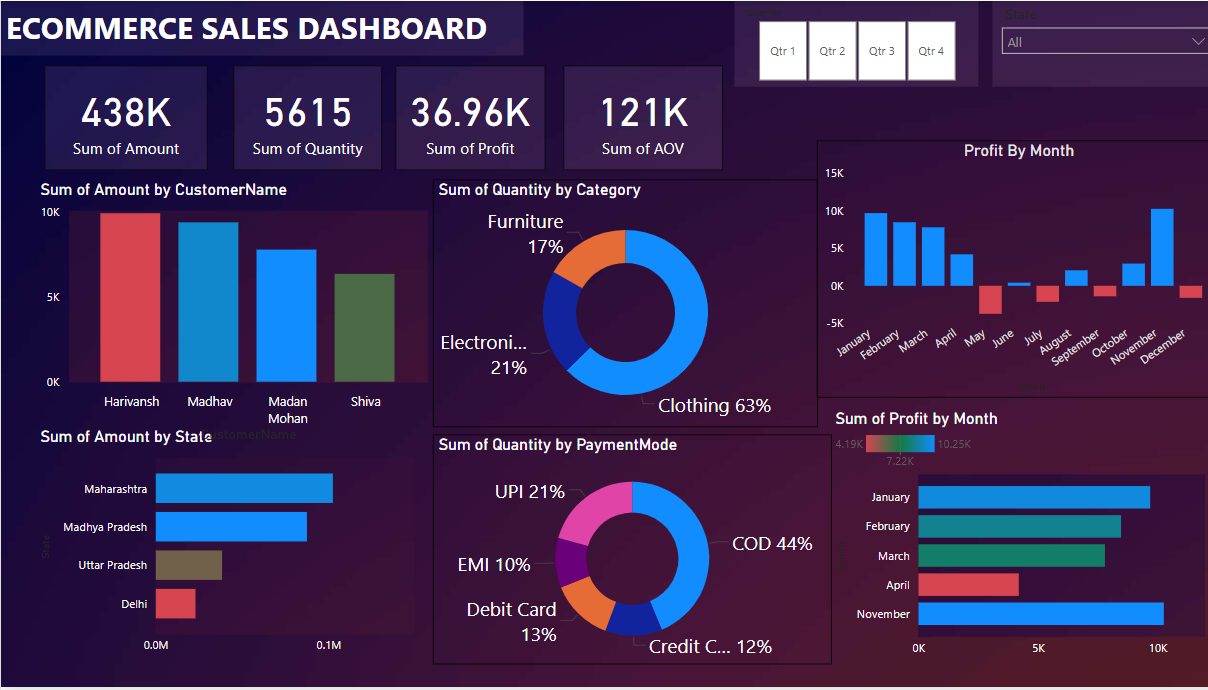

Layout of this report page (visuals, bound fields, positions):
{"tool":"powerbi","page":{"name":"Page 1","canvas":[1280,720],"ordinal":0},"visuals":[{"type":"columnChart","title":"Profit By Month","fields":{"Category":["Orders (1).Order Date.Variation.Date Hierarchy.Month"],"Y":["Details.Profit"]},"box":[857.1,147.1,422.9,270],"z":0},{"type":"donutChart","fields":{"Category":["Details.Category"],"Y":["Details.Quantity"]},"box":[452.9,187.1,404.3,260],"z":1000},{"type":"donutChart","fields":{"Y":["Details.Quantity"],"Series":["Details.PaymentMode"]},"box":[452.9,455.7,418.6,241.4],"z":2000},{"type":"clusteredBarChart","fields":{"Y":["Details.Profit"],"Category":["Orders (1).Order Date.Variation.Date Hierarchy.Month"]},"box":[871.4,428.6,408.6,268.6],"z":3000},{"type":"card","fields":{"Values":["Details.Amount"]},"box":[45.7,67.1,171.4,110],"z":4000},{"type":"card","fields":{"Values":["Details.Quantity"]},"box":[244.3,67.1,155.7,110],"z":5000},{"type":"card","fields":{"Values":["Details.Profit"]},"box":[414.3,67.1,157.1,110],"z":6000},{"type":"card","fields":{"Values":["Details.AOV"]},"box":[590,67.1,167.1,110],"z":7000},{"type":"clusteredBarChart","fields":{"Y":["Details.Amount"],"Category":["Orders (1).State"]},"box":[35.7,447.1,417.1,247.1],"z":8000},{"type":"columnChart","fields":{"Category":["Orders (1).CustomerName"],"Y":["Details.Amount"]},"box":[35.7,187.1,417.1,280],"z":9000},{"type":"textbox","box":[0,0,548.6,57.1],"z":10000},{"type":"slicer","fields":{"Values":["Orders (1).Order Date.Variation.Date Hierarchy.Quarter"]},"box":[770,0,255.7,90],"z":11000},{"type":"slicer","fields":{"Values":["Orders (1).State"]},"box":[1041.4,0,238.6,90],"z":12000}]}

Visuals, with their boxes in screenshot pixels (x1, y1, x2, y2), scaled from the page's 1280x720 canvas onto the 1208x690 screenshot:
"Profit By Month" columnChart: select_region(809, 141, 1207, 400)
donutChart - Details.Category x Details.Quantity: select_region(427, 179, 809, 428)
donutChart - Details.Quantity x Details.PaymentMode: select_region(427, 437, 822, 668)
clusteredBarChart - Details.Profit x Orders (1).Order Date.Variation.Date Hierarchy.Month: select_region(822, 411, 1207, 668)
card - Details.Amount: select_region(43, 64, 205, 170)
card - Details.Quantity: select_region(231, 64, 378, 170)
card - Details.Profit: select_region(391, 64, 539, 170)
card - Details.AOV: select_region(557, 64, 715, 170)
clusteredBarChart - Details.Amount x Orders (1).State: select_region(34, 428, 427, 665)
columnChart - Orders (1).CustomerName x Details.Amount: select_region(34, 179, 427, 448)
textbox: select_region(0, 0, 518, 55)
slicer - Orders (1).Order Date.Variation.Date Hierarchy.Quarter: select_region(727, 0, 968, 86)
slicer - Orders (1).State: select_region(983, 0, 1207, 86)
